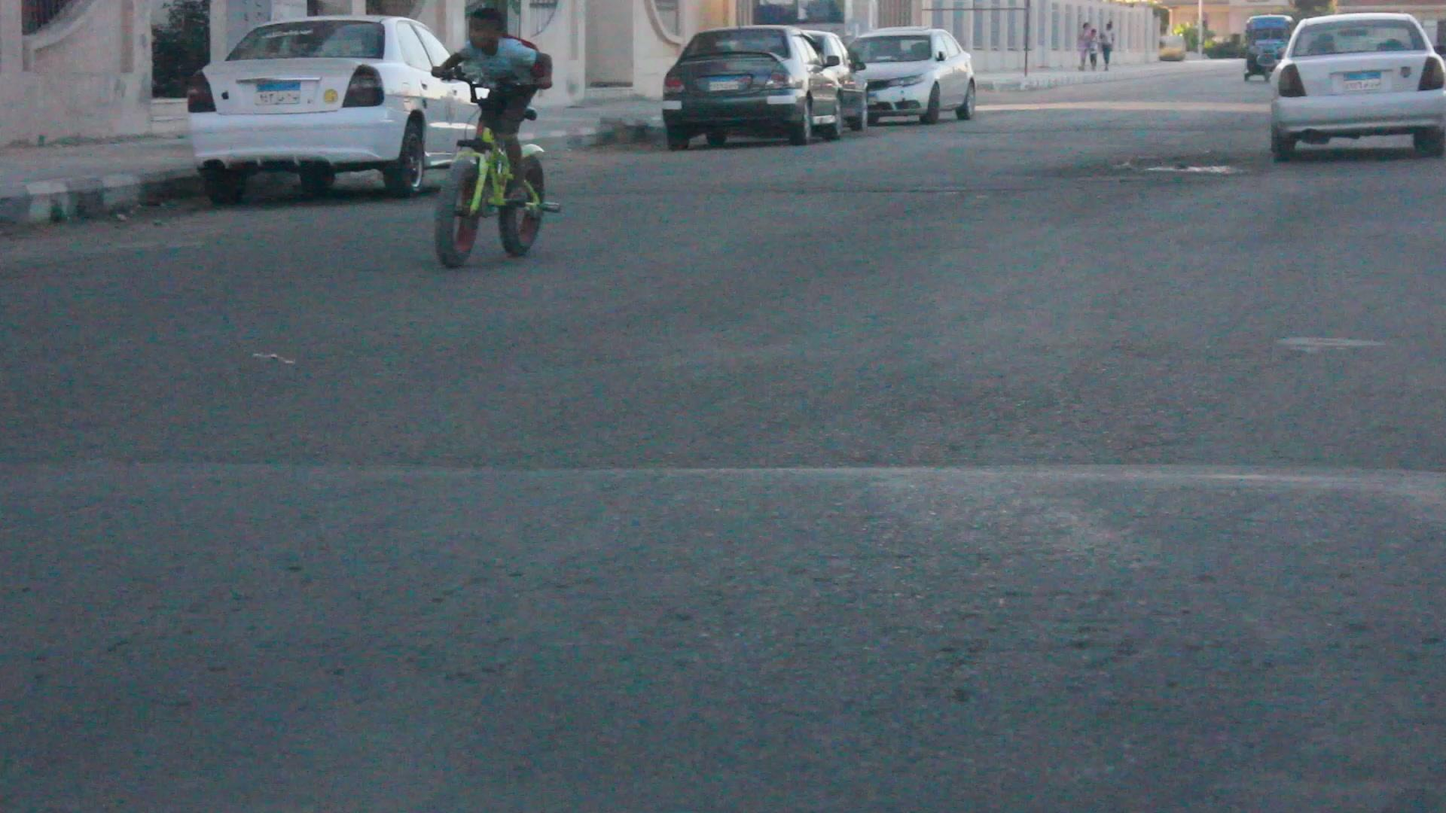Bump: (0, 458, 1445, 812)
Pothole: (1047, 152, 1252, 178)
